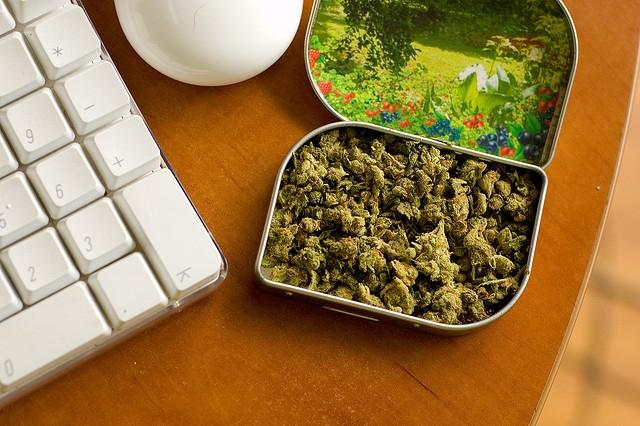blueberry: (524, 143, 540, 161), (516, 131, 532, 146), (532, 133, 546, 149), (486, 132, 499, 144), (476, 135, 488, 147), (498, 134, 508, 148), (487, 142, 498, 154), (382, 115, 388, 122), (503, 132, 509, 138), (496, 125, 502, 130), (542, 130, 547, 136), (380, 111, 386, 115), (393, 111, 398, 115), (396, 115, 398, 118)
